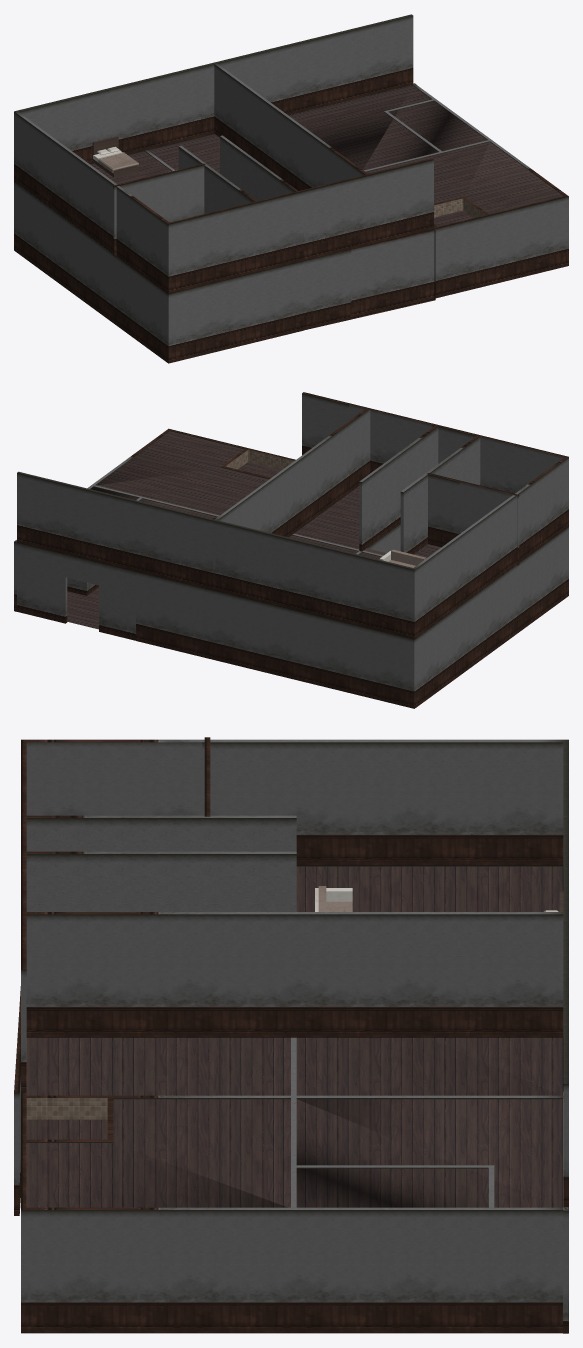
File: map1.glb
3 views of the same model, one above another, from view 1: azimuth 30°, elevation 25°; view 2: azimuth 150°, elevation 25°; view 3: azimuth 270°, elevation 25° (orthographic). The views are drawn at different scales.
Size of the model in its own units: 85.97 by 28.4 by 57.8.
Materials: 33 (33 with a texture image).
